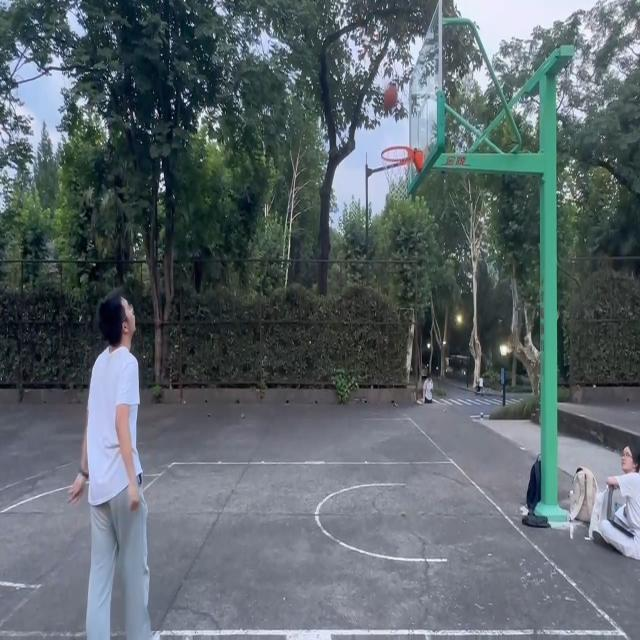basketball: (381, 146, 425, 202)
rim: (382, 84, 398, 111)
